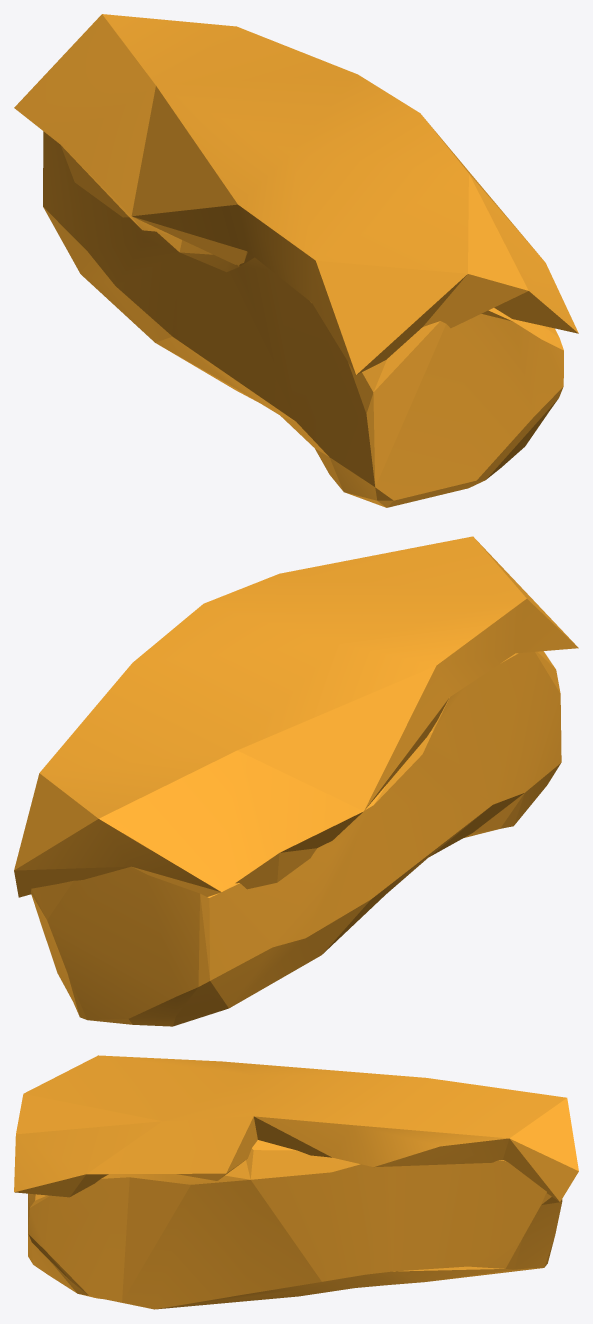
Rendered from SM_Menhir_B_Horizontal_Snow.fbx.
The picture shows the model from 3 angles, top to bottom: view 1: azimuth 30°, elevation 25°; view 2: azimuth 150°, elevation 25°; view 3: azimuth 270°, elevation 25°; orthographic projection. The views are drawn at different scales.
Parts seen in each view (by area): view 1: menhir-b-horizontal-snow; view 2: menhir-b-horizontal-snow; view 3: menhir-b-horizontal-snow.
Boxes of the visible parts, x1,y1,x2,y2 form: menhir-b-horizontal-snow: (14, 14, 578, 507); menhir-b-horizontal-snow: (14, 536, 578, 1026); menhir-b-horizontal-snow: (14, 1055, 578, 1309).
Bounding box in the file's own units: 1.96 × 1.91 × 4.98.
